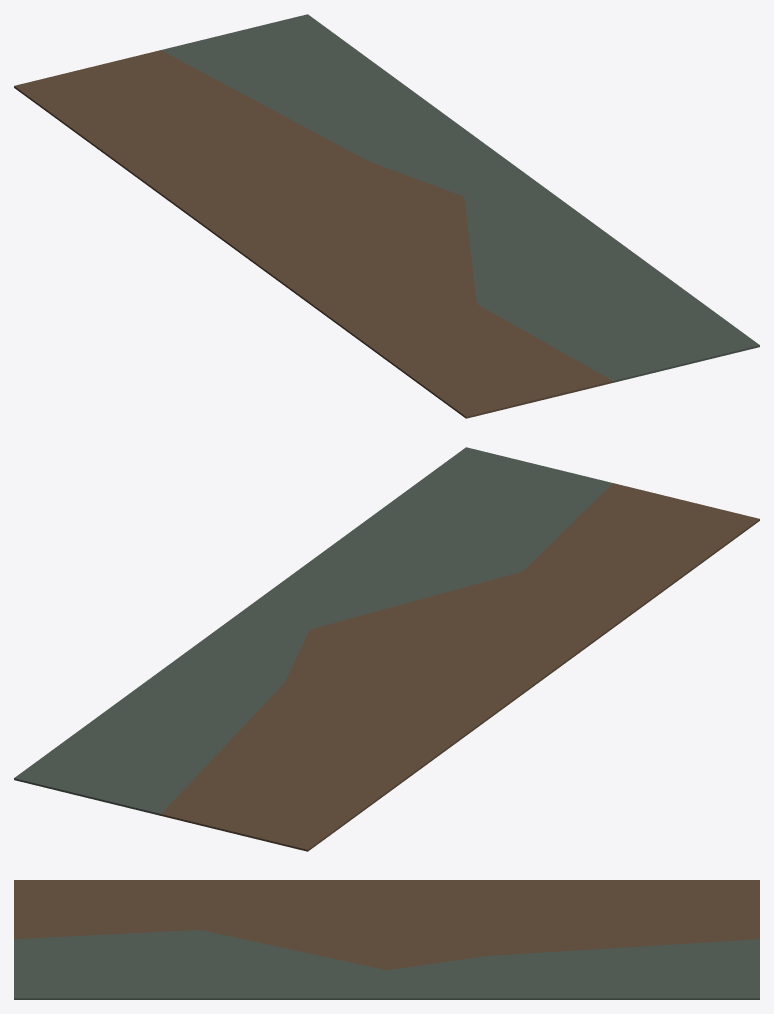
The model's file is Piso combinado 1.fbx.
The picture shows the model from 3 angles, top to bottom: view 1: azimuth 30°, elevation 25°; view 2: azimuth 150°, elevation 25°; view 3: azimuth 270°, elevation 25°; orthographic projection. The views are drawn at different scales.
Visible parts, largest first — view 1: Piso_combinado_1; view 2: Piso_combinado_1; view 3: Piso_combinado_1.
Part boxes in pixels (x1,y1,x2,y2): Piso_combinado_1: [14, 14, 759, 418]; Piso_combinado_1: [14, 447, 759, 851]; Piso_combinado_1: [14, 880, 759, 999].
Size of the model in its own units: 36.39 by 0.2252 by 97.
